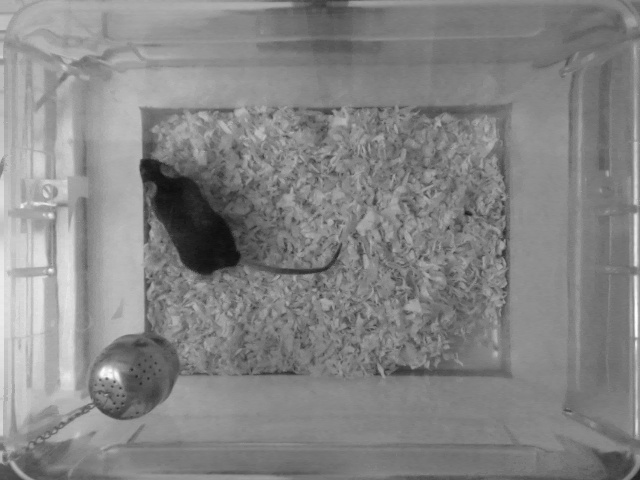mice: (135, 155, 347, 277)
